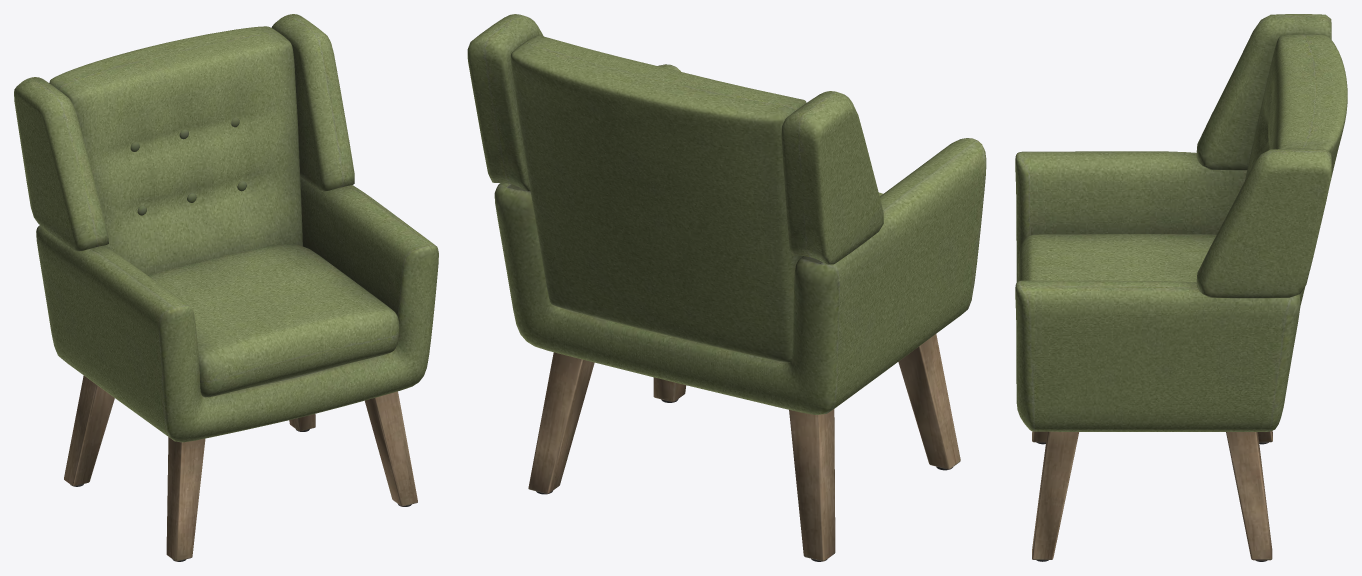
File: armchair_modern_upholstered_4096px2_mark_peters.glb
The picture shows the model from 3 angles, left to right: view 1: azimuth 30°, elevation 25°; view 2: azimuth 150°, elevation 25°; view 3: azimuth 270°, elevation 25°; orthographic projection. The views are drawn at different scales.
Visible parts, largest first — view 1: Chair_Chair_MTL_0; view 2: Chair_Chair_MTL_0; view 3: Chair_Chair_MTL_0.
Part boxes in pixels (<box>): Chair_Chair_MTL_0: <box>14,14,438,561</box>; Chair_Chair_MTL_0: <box>467,14,986,561</box>; Chair_Chair_MTL_0: <box>1015,14,1347,561</box>.
Bounding box in the file's own units: 0.6926 × 0.8924 × 0.6454.
1 material, 1 textured.
